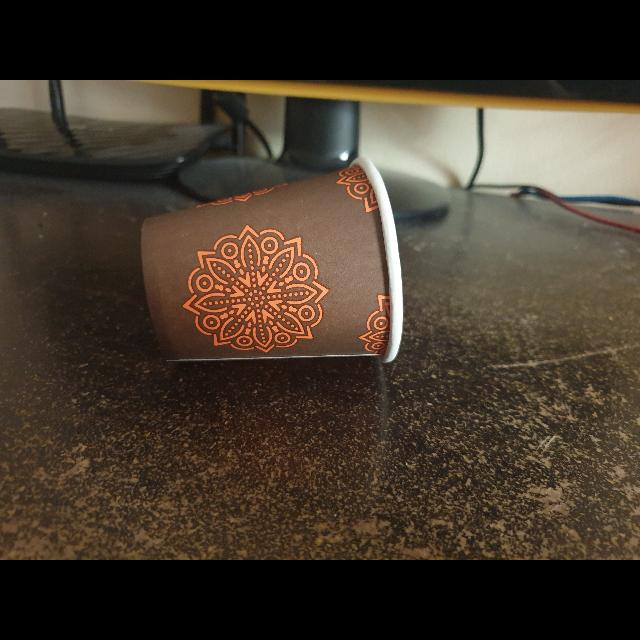trash: (131, 154, 411, 373)
